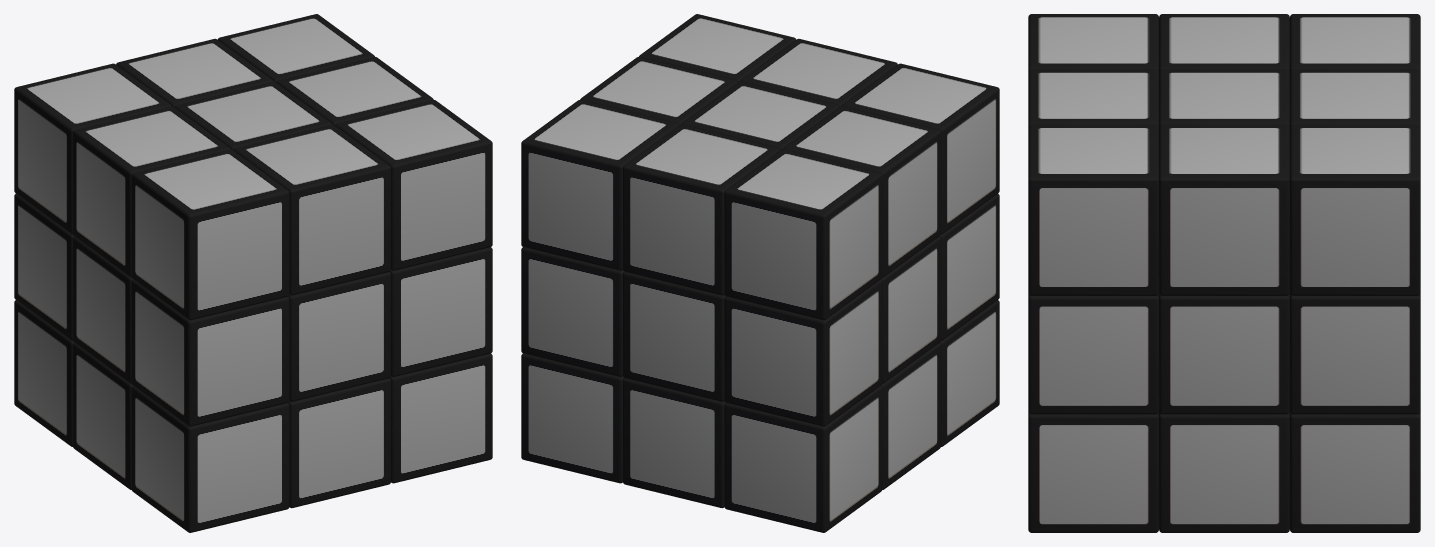
File: RubiksCube.glb
The picture shows the model from 3 angles, left to right: view 1: azimuth 30°, elevation 25°; view 2: azimuth 150°, elevation 25°; view 3: azimuth 270°, elevation 25°; orthographic projection. The views are drawn at different scales.
Parts seen in each view (by area): view 1: Baked; view 2: Baked; view 3: Baked.
Boxes of the visible parts, bbox=[...] form: Baked: bbox=[14, 14, 492, 532]; Baked: bbox=[521, 14, 999, 532]; Baked: bbox=[1028, 14, 1420, 532].
Size of the model in its own units: 6 by 6 by 6.
1 material, 1 textured.
